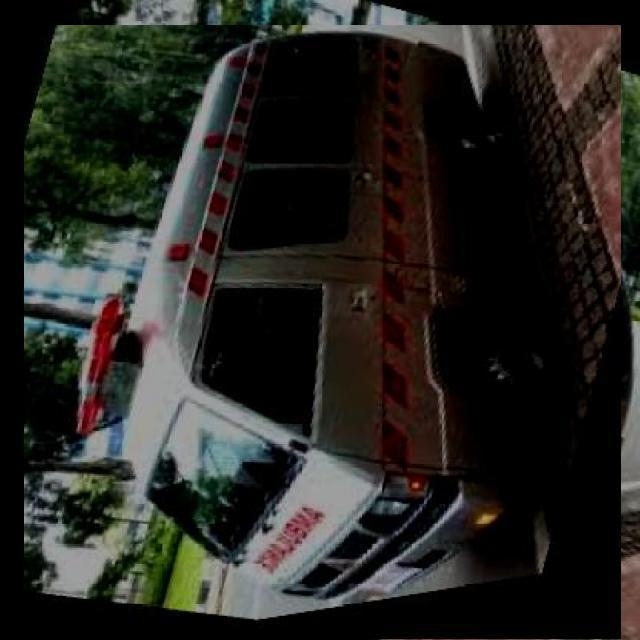emergency-vehicle: (15, 33, 630, 640)
